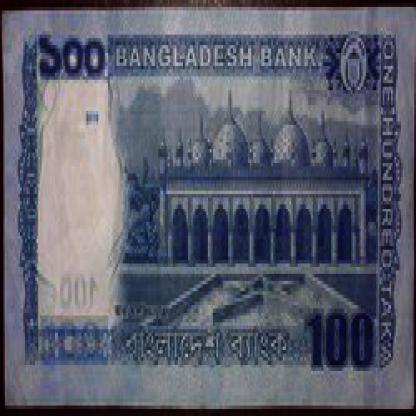one hundred taka: (306, 308, 375, 371), (35, 28, 106, 83)
